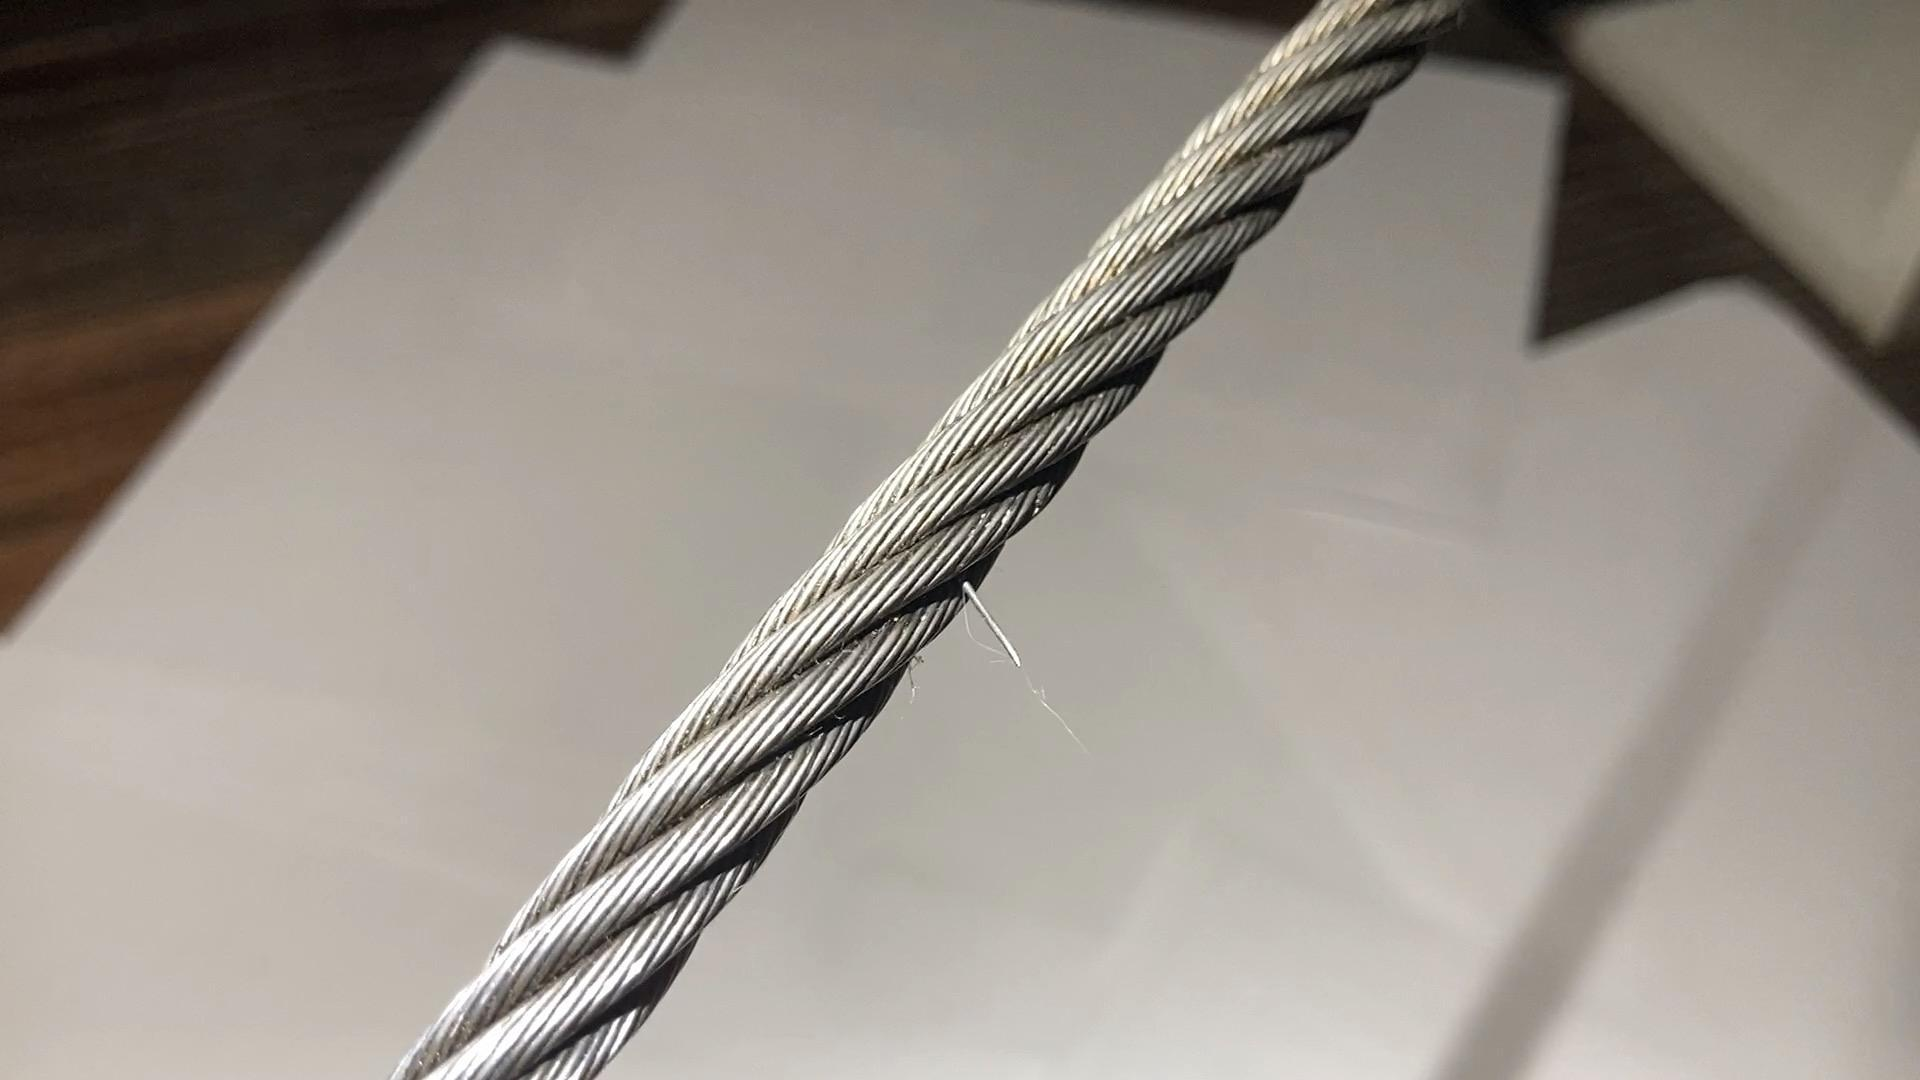break: (935, 541, 1040, 687)
